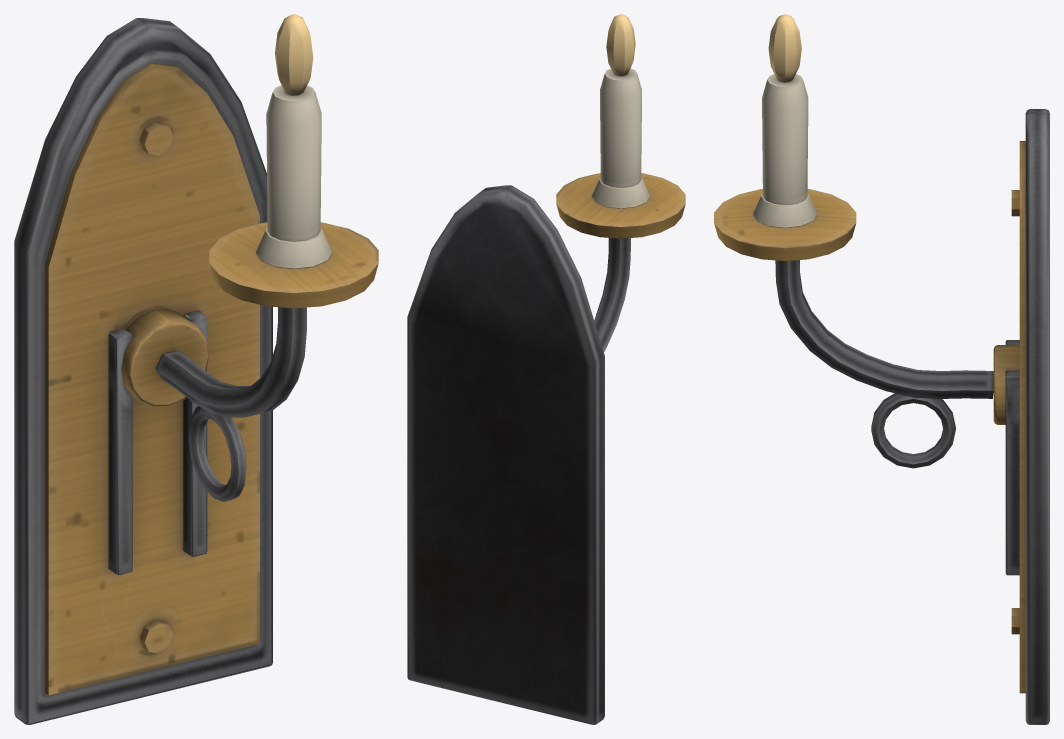
File: SconceLever.fbx
3 views of the same model, side by side, from view 1: azimuth 30°, elevation 25°; view 2: azimuth 150°, elevation 25°; view 3: azimuth 270°, elevation 25° (orthographic). The views are drawn at different scales.
Parts seen in each view (by area): view 1: SconceLever_Main, SconceLever_Lever0, SconceLever_Lever0Glow; view 2: SconceLever_Main, SconceLever_Lever0, SconceLever_Lever0Glow; view 3: SconceLever_Lever0, SconceLever_Main, SconceLever_Lever0Glow.
Part boxes in pixels (x1=…): SconceLever_Main: x1=14, y1=18, x2=272, y2=724; SconceLever_Lever0: x1=155, y1=85, x2=378, y2=501; SconceLever_Lever0Glow: x1=275, y1=14, x2=313, y2=95; SconceLever_Main: x1=407, y1=185, x2=604, y2=724; SconceLever_Lever0: x1=556, y1=68, x2=685, y2=351; SconceLever_Lever0Glow: x1=606, y1=14, x2=635, y2=76; SconceLever_Lever0: x1=714, y1=74, x2=993, y2=468; SconceLever_Main: x1=993, y1=109, x2=1049, y2=724; SconceLever_Lever0Glow: x1=768, y1=14, x2=801, y2=82.
Bounding box in the file's own units: 60 × 182 × 83.73.
